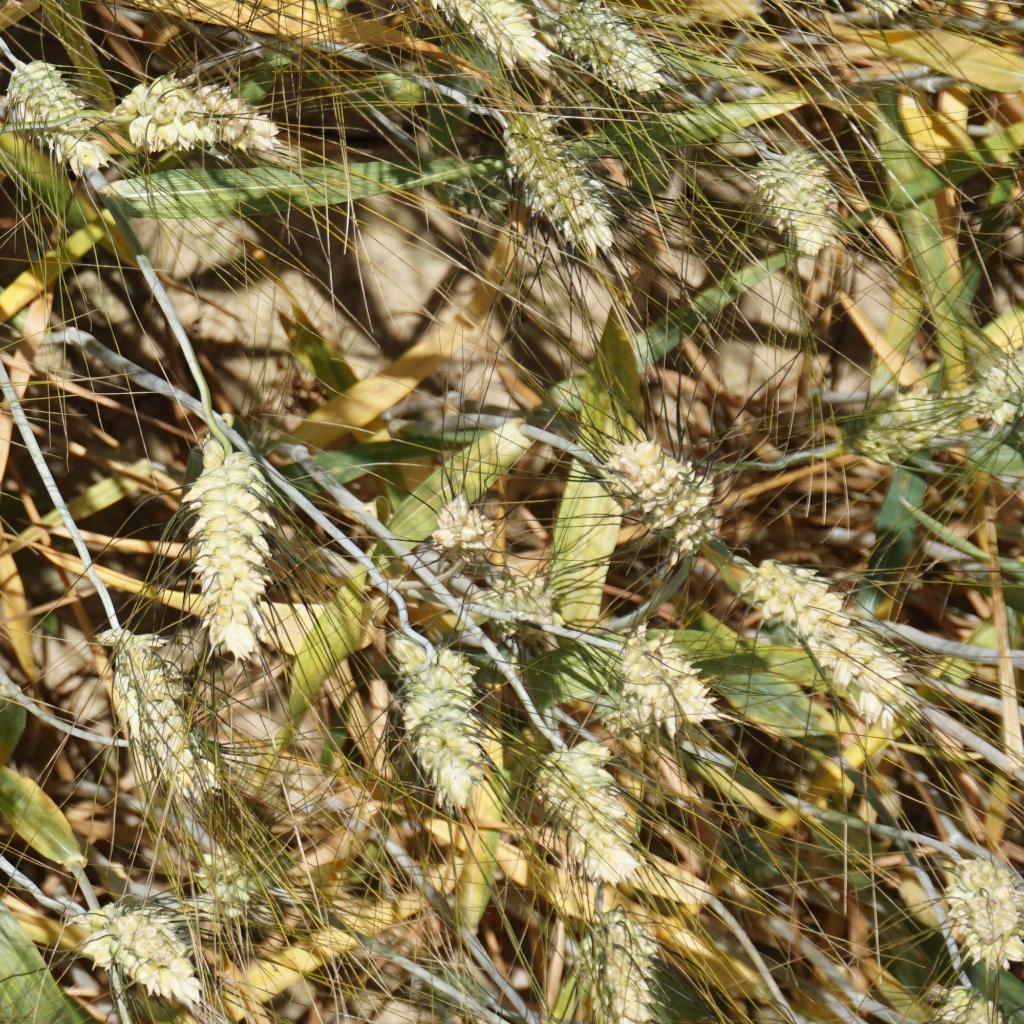0-0: (738, 546, 952, 751), (175, 433, 286, 653), (484, 113, 632, 269), (551, 891, 701, 1024), (390, 644, 497, 818), (524, 726, 647, 876), (66, 892, 232, 1003), (113, 640, 226, 798), (733, 138, 856, 267), (591, 438, 732, 550), (124, 73, 288, 158), (595, 617, 719, 728), (0, 44, 107, 169), (559, 0, 675, 109), (841, 367, 954, 474), (932, 846, 1024, 973), (387, 0, 538, 69), (181, 841, 292, 924), (480, 560, 570, 641), (424, 489, 501, 566)
